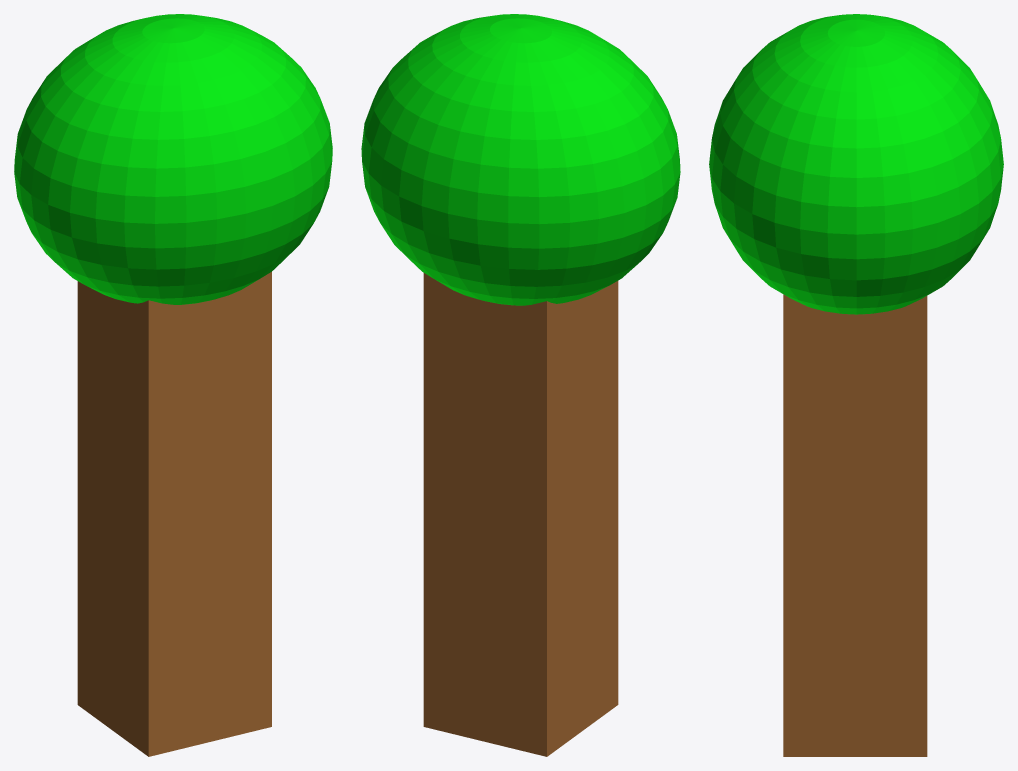
The model's file is Tree.fbx.
The picture shows the model from 3 angles, left to right: view 1: azimuth 30°, elevation 25°; view 2: azimuth 150°, elevation 25°; view 3: azimuth 270°, elevation 25°; orthographic projection.
Parts seen in each view (by area): view 1: Cube, Sphere; view 2: Cube, Sphere; view 3: Sphere, Cube.
Part boxes in pixels (x1,y1,x2,y2): Cube: [77, 272, 271, 756]; Sphere: [14, 14, 332, 304]; Cube: [423, 273, 618, 756]; Sphere: [361, 14, 680, 305]; Sphere: [709, 14, 1003, 314]; Cube: [783, 294, 927, 756].
Bounding box in the file's own units: 462 × 1066 × 409.
